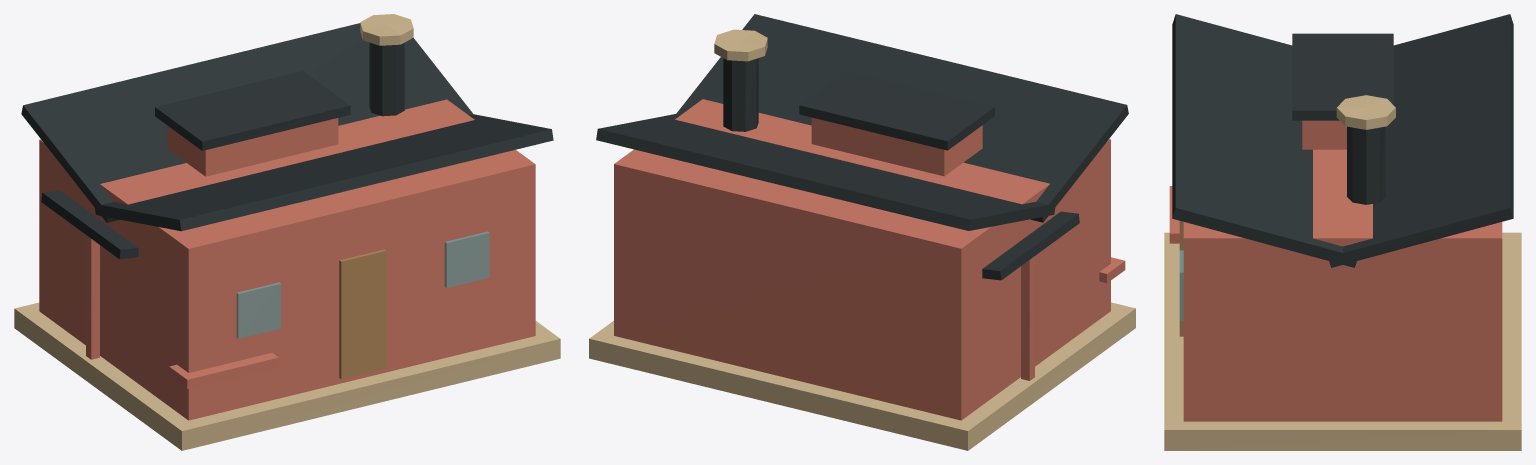
The model's file is Maple-Syrup-House.glb.
3 views of the same model, side by side, from view 1: azimuth 30°, elevation 25°; view 2: azimuth 150°, elevation 25°; view 3: azimuth 270°, elevation 25° (orthographic). The views are drawn at different scales.
Visible parts, largest first — view 1: maple-syrup-house-static-maple-syrup-house-weathered-warm-ti, maple-syrup-house-static-maple-syrup-house-charcoal-roof-chi, maple-syrup-house-static-maple-syrup-house-pale-stone-founda, maple-syrup-house-static-maple-syrup-house-muted-teal-door, maple-syrup-house-static-maple-syrup-house-cream-window-glas; view 2: maple-syrup-house-static-maple-syrup-house-weathered-warm-ti, maple-syrup-house-static-maple-syrup-house-charcoal-roof-chi, maple-syrup-house-static-maple-syrup-house-pale-stone-founda; view 3: maple-syrup-house-static-maple-syrup-house-charcoal-roof-chi, maple-syrup-house-static-maple-syrup-house-weathered-warm-ti, maple-syrup-house-static-maple-syrup-house-pale-stone-founda, maple-syrup-house-static-maple-syrup-house-muted-teal-door.
Boxes of the visible parts, x1=… form: maple-syrup-house-static-maple-syrup-house-weathered-warm-ti: x1=39, y1=99, x2=535, y2=420; maple-syrup-house-static-maple-syrup-house-charcoal-roof-chi: x1=21, y1=23, x2=553, y2=259; maple-syrup-house-static-maple-syrup-house-pale-stone-founda: x1=14, y1=14, x2=560, y2=450; maple-syrup-house-static-maple-syrup-house-muted-teal-door: x1=339, y1=249, x2=386, y2=379; maple-syrup-house-static-maple-syrup-house-cream-window-glas: x1=236, y1=231, x2=489, y2=338; maple-syrup-house-static-maple-syrup-house-weathered-warm-ti: x1=614, y1=99, x2=1125, y2=420; maple-syrup-house-static-maple-syrup-house-charcoal-roof-chi: x1=596, y1=14, x2=1128, y2=280; maple-syrup-house-static-maple-syrup-house-pale-stone-founda: x1=589, y1=29, x2=1135, y2=450; maple-syrup-house-static-maple-syrup-house-charcoal-roof-chi: x1=1172, y1=14, x2=1513, y2=267; maple-syrup-house-static-maple-syrup-house-weathered-warm-ti: x1=1169, y1=120, x2=1502, y2=421; maple-syrup-house-static-maple-syrup-house-pale-stone-founda: x1=1164, y1=95, x2=1521, y2=450; maple-syrup-house-static-maple-syrup-house-muted-teal-door: x1=1179, y1=221, x2=1183, y2=336.
Bounding box in the file's own units: 6.05 × 4.29 × 4.6.
